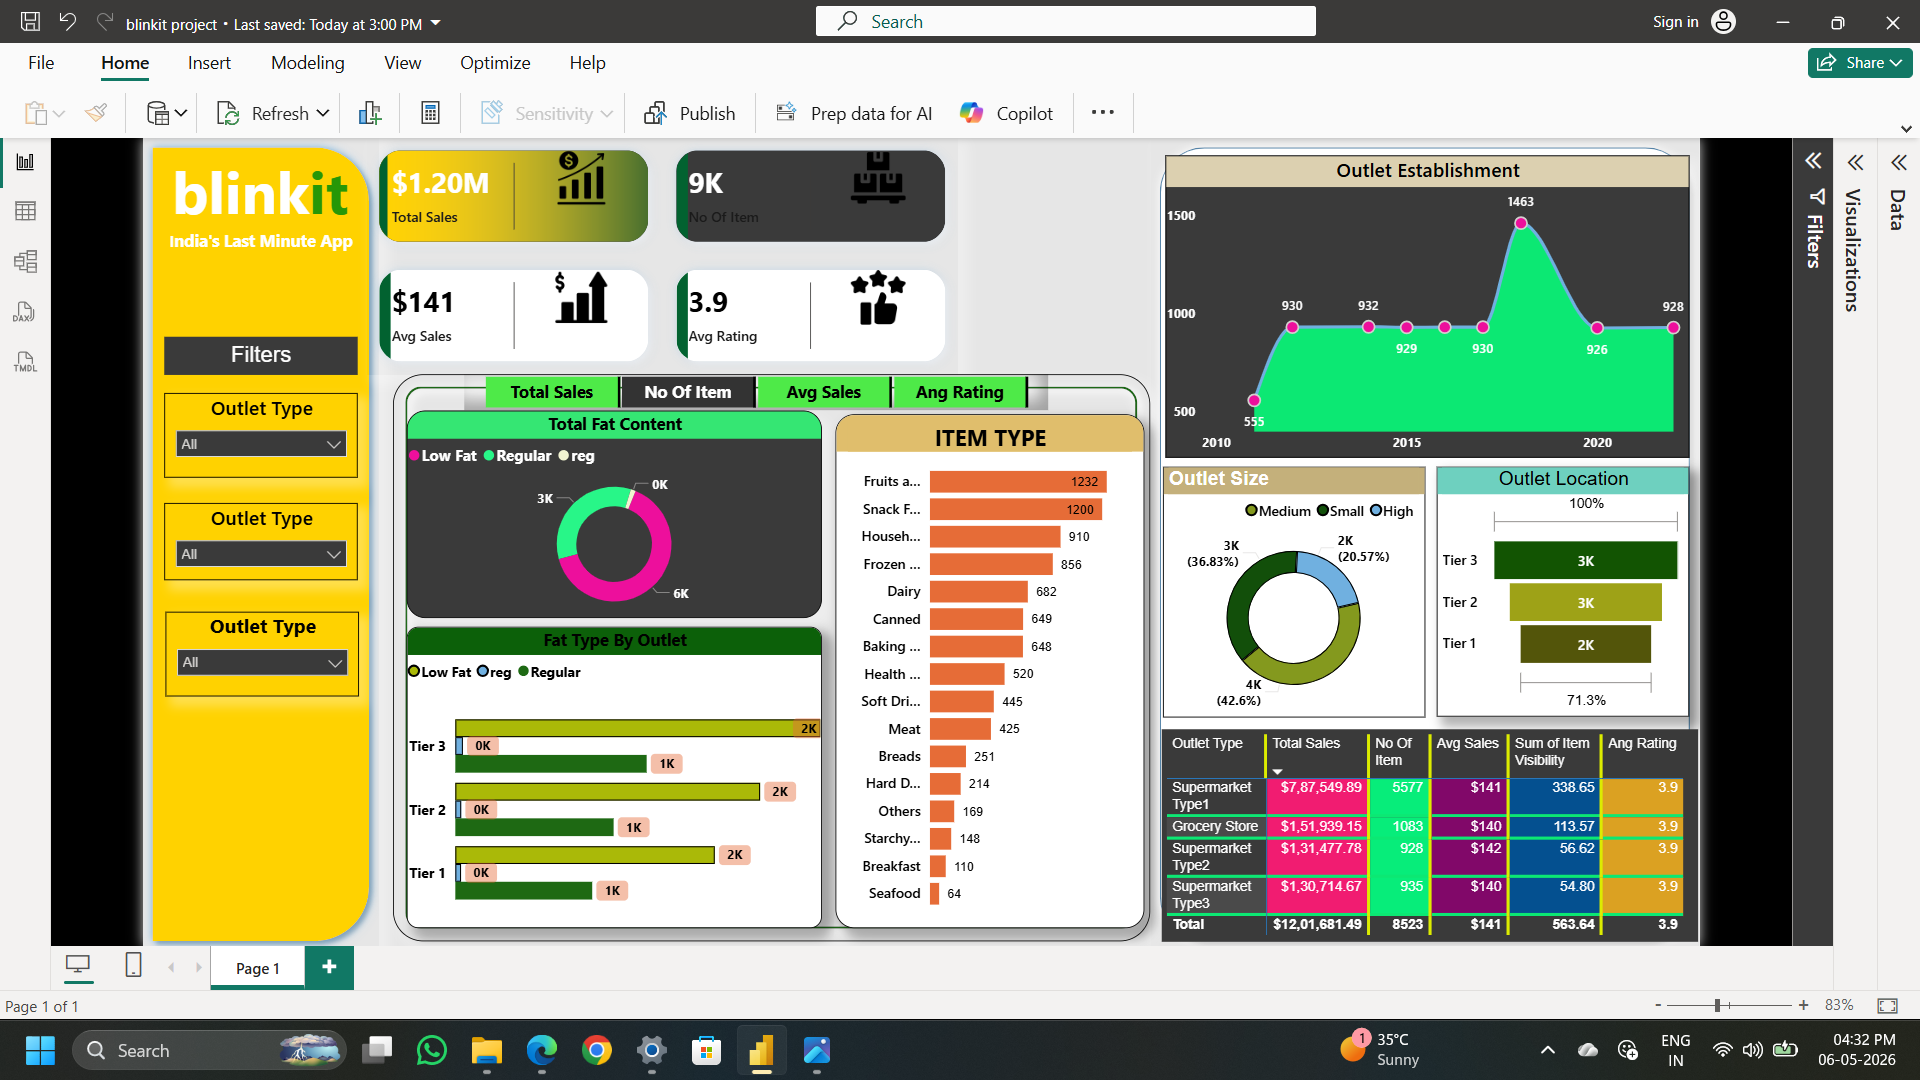

The page's visual inventory and layout, read from the dashboard file:
{"tool":"powerbi","page":{"name":"Page 1","canvas":[1500,779],"ordinal":0},"visuals":[{"type":"shape","box":[0,0,226.8,782.9],"z":0},{"type":"textbox","box":[20.7,6.1,186.6,86.6],"z":1000},{"type":"textbox","box":[20.7,82.9,195.1,42.7],"z":2000},{"type":"cardVisual","fields":{"Data":["BlinkIT Grocery Data.Total Sales","BlinkIT Grocery Data.Avg Sales","BlinkIT Grocery Data.No Of Item","BlinkIT Grocery Data.Ang Rating"]},"box":[215.8,0,569.5,228],"z":3000},{"type":"shape","box":[241.5,228,729.2,546.3],"z":4000},{"type":"donutChart","title":"Total Fat Content","fields":{"Y":["BlinkIT Grocery Data.No Of Item"],"Category":["BlinkIT Grocery Data.Item Fat Content"]},"box":[253.7,262.2,400,200],"z":5000},{"type":"slicer","fields":{"Values":["matrix.matrix"]},"box":[309.7,228,562.2,34.1],"z":6000},{"type":"clusteredBarChart","title":"Fat Type By Outlet","fields":{"Y":["BlinkIT Grocery Data.No Of Item"],"Category":["BlinkIT Grocery Data.Outlet Location Type"],"Series":["BlinkIT Grocery Data.Item Fat Content"]},"box":[253.7,470.7,400,290.2],"z":7000},{"type":"barChart","title":"ITEM TYPE","fields":{"Y":["BlinkIT Grocery Data.No Of Item"],"Category":["BlinkIT Grocery Data.Item Type"]},"box":[667.1,265.8,297.6,495.1],"z":8000},{"type":"shape","box":[970.7,0,528.7,782.9],"z":9000},{"type":"lineChart","title":"Outlet Establishment ","fields":{"Y":["BlinkIT Grocery Data.No Of Item"],"Category":["BlinkIT Grocery Data.Outlet Establishment Year"]},"box":[985.2,16.9,504.6,291.5],"z":10000},{"type":"donutChart","title":"Outlet Size","fields":{"Y":["BlinkIT Grocery Data.No Of Item"],"Category":["BlinkIT Grocery Data.Outlet Size"]},"box":[982.9,317.1,252.4,241.5],"z":11000},{"type":"funnel","title":"Outlet Location ","fields":{"Y":["BlinkIT Grocery Data.No Of Item"],"Category":["BlinkIT Grocery Data.Outlet Location Type"]},"box":[1246.6,316.8,243.3,240.9],"z":12000},{"type":"slicer","title":"Outlet Type","fields":{"Values":["BlinkIT Grocery Data.Outlet Location Type"]},"box":[20.5,245.7,186.7,81.9],"z":13000},{"type":"slicer","title":"Outlet Type","fields":{"Values":["BlinkIT Grocery Data.Outlet Size"]},"box":[20.5,351.7,186.7,74.7],"z":14000},{"type":"slicer","title":"Outlet Type","fields":{"Values":["BlinkIT Grocery Data.Item Type"]},"box":[21.7,456.5,186.7,81.9],"z":15000},{"type":"pivotTable","fields":{"Rows":["BlinkIT Grocery Data.Outlet Type"],"Values":["BlinkIT Grocery Data.Total Sales","BlinkIT Grocery Data.No Of Item","BlinkIT Grocery Data.Avg Sales","Sum(BlinkIT Grocery Data.Item Visibility)","BlinkIT Grocery Data.Ang Rating"]},"box":[982.2,569.4,516.7,205],"z":15001},{"type":"textbox","box":[20.9,191.9,186.7,36.5],"z":15002}]}

Visuals, with their boxes on the page's 1500x779 design canvas (x1, y1, x2, y2). These are canvas units, not pixel positions in the 1920x1080 screenshot, which may show the page scaled, cropped or inside an application window:
shape: l=0, t=0, r=227, b=783
textbox: l=21, t=6, r=207, b=93
textbox: l=21, t=83, r=216, b=126
cardVisual - BlinkIT Grocery Data.Total Sales x BlinkIT Grocery Data.Avg Sales: l=216, t=0, r=785, b=228
shape: l=242, t=228, r=971, b=774
"Total Fat Content" donutChart: l=254, t=262, r=654, b=462
slicer - matrix.matrix: l=310, t=228, r=872, b=262
"Fat Type By Outlet" clusteredBarChart: l=254, t=471, r=654, b=761
"ITEM TYPE" barChart: l=667, t=266, r=965, b=761
shape: l=971, t=0, r=1499, b=783
"Outlet Establishment " lineChart: l=985, t=17, r=1490, b=308
"Outlet Size" donutChart: l=983, t=317, r=1235, b=559
"Outlet Location " funnel: l=1247, t=317, r=1490, b=558
"Outlet Type" slicer: l=20, t=246, r=207, b=328
"Outlet Type" slicer: l=20, t=352, r=207, b=426
"Outlet Type" slicer: l=22, t=456, r=208, b=538
pivotTable - BlinkIT Grocery Data.Outlet Type x BlinkIT Grocery Data.Total Sales: l=982, t=569, r=1499, b=774
textbox: l=21, t=192, r=208, b=228
